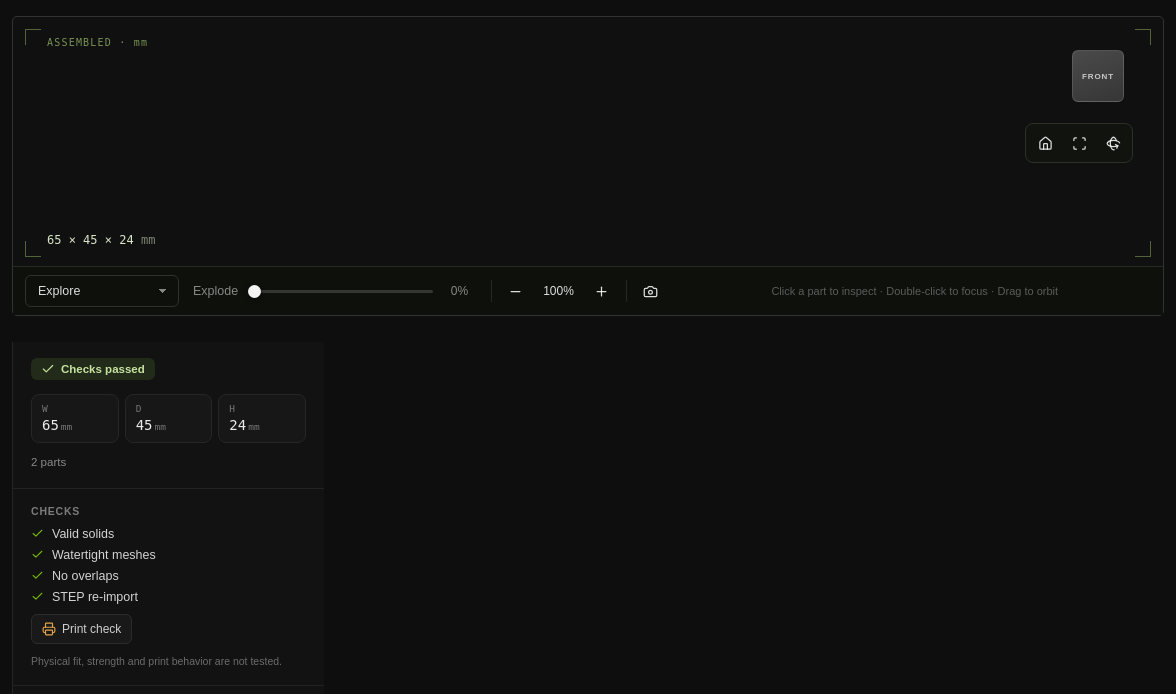
Scenario: print check › toggles the overlay and lists per-part results
Click the button "Print check" at (82, 629), box x1=31 y1=614 x2=132 y2=644
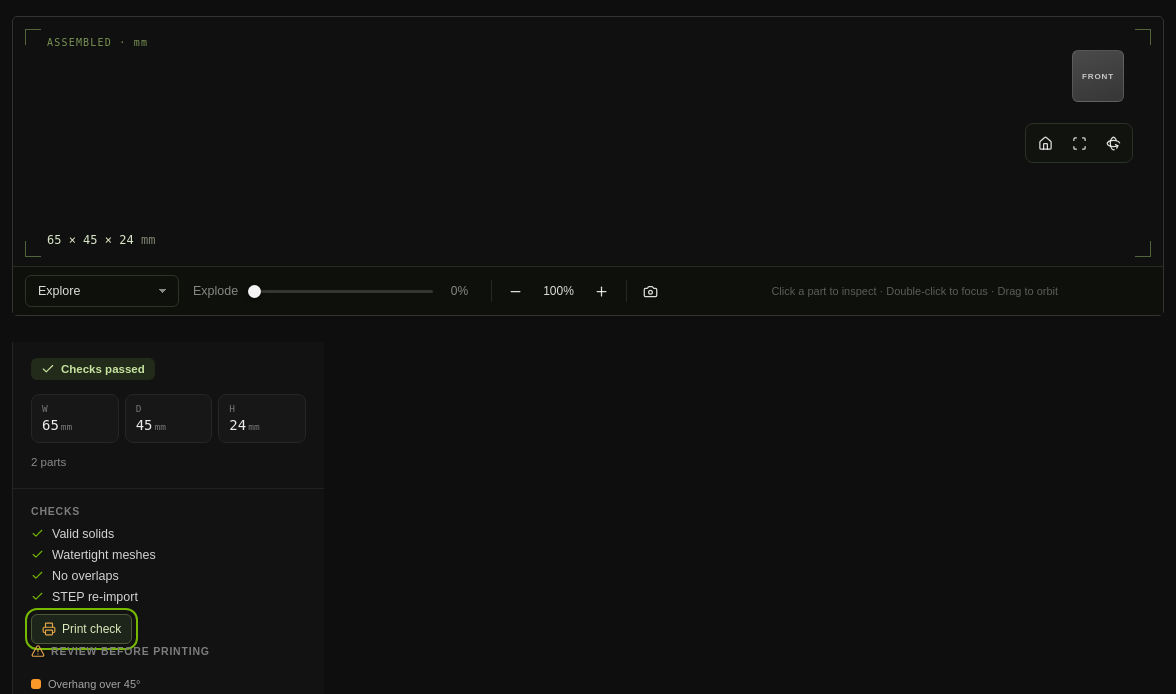
expect the heading "Review before printing" is shown: met, box x1=31 y1=644 x2=210 y2=658
Click the button "Print check" at (82, 629), box x1=31 y1=614 x2=132 y2=644
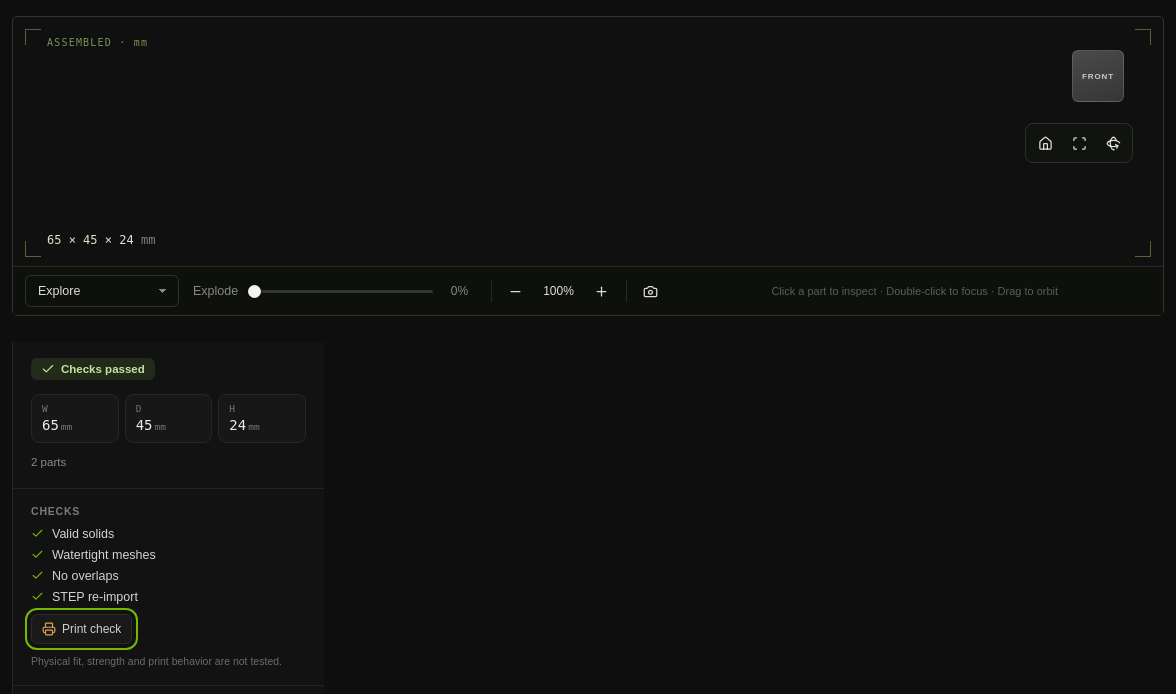
expect the heading "Review before printing" is gone: met
